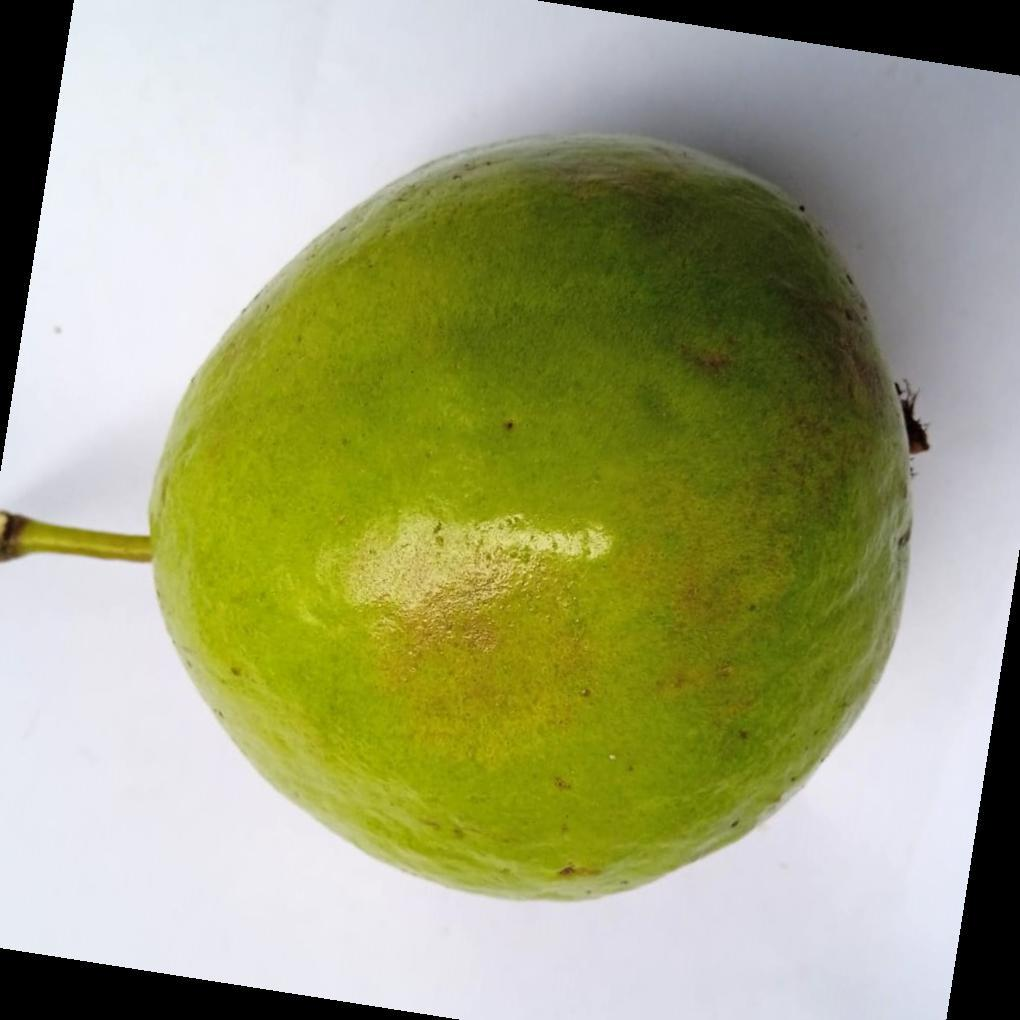FreshGuava: (140, 133, 918, 906)
